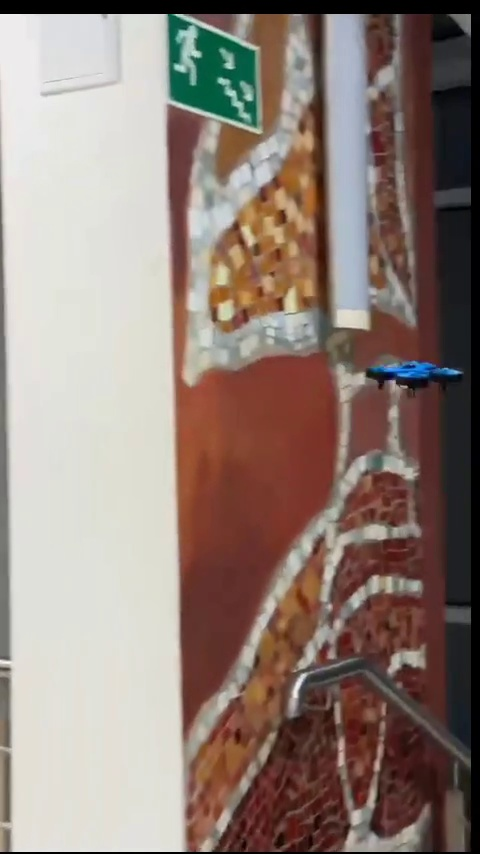drone: (373, 360, 465, 397)
